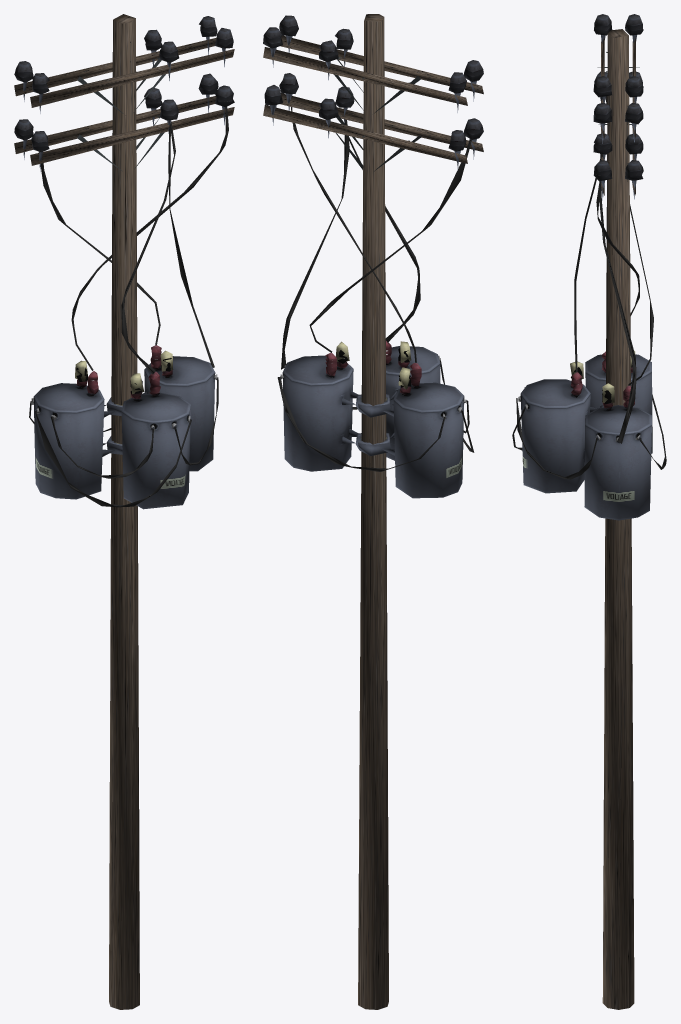
File: pole_wood_e_lod_2.glb
3 views of the same model, side by side, from view 1: azimuth 30°, elevation 25°; view 2: azimuth 150°, elevation 25°; view 3: azimuth 270°, elevation 25° (orthographic).
Visible parts, largest first — view 1: pole_wood_e_lod_2; view 2: pole_wood_e_lod_2; view 3: pole_wood_e_lod_2.
Part boxes in pixels (box(x1,y1,x2,y2)): pole_wood_e_lod_2: box(14, 14, 234, 1009); pole_wood_e_lod_2: box(263, 14, 483, 1009); pole_wood_e_lod_2: box(512, 14, 666, 1009).
Size of the model in its own units: 2.2 by 10.2 by 1.47.
2 materials, 2 textured.
